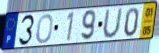0: (123, 6, 140, 39)
1: (66, 10, 75, 43)
3: (16, 14, 37, 47)
9: (80, 10, 97, 43)
O: (35, 13, 54, 44)
U: (102, 7, 124, 39)
